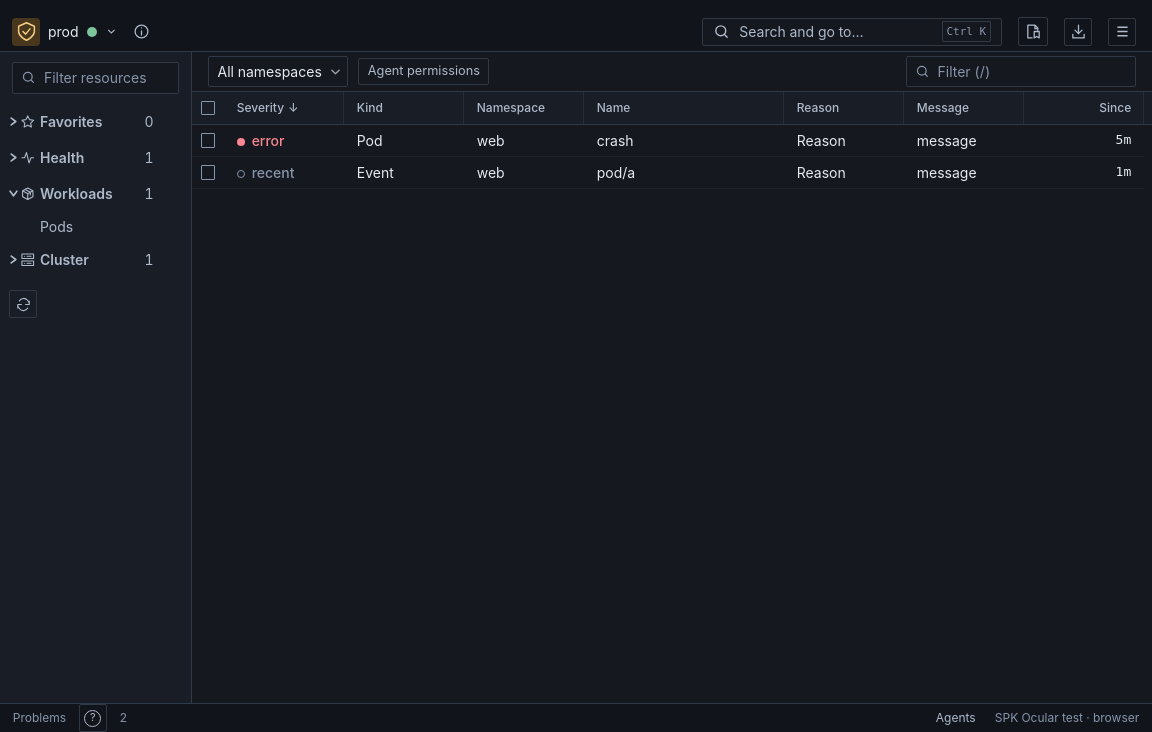
Problems › a row offers what its object's kind offers, not the table's
The image size is (1152, 732).
Right-click the text "crash" at (615, 140), box x1=597 y1=132 x2=634 y2=149
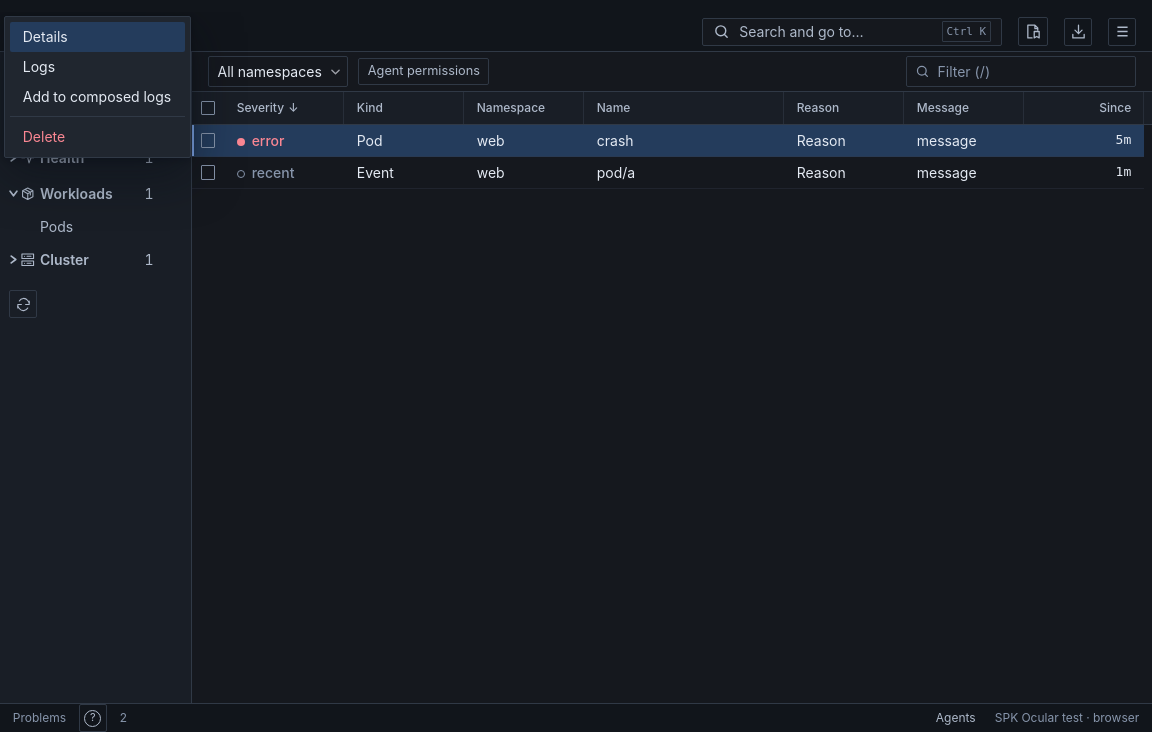
Expected: the menu items read "Details", "Logs", "Add to composed logs", "Delete", in this order, x1=10 y1=22 x2=185 y2=52; x1=10 y1=52 x2=185 y2=82; x1=10 y1=82 x2=185 y2=112; x1=10 y1=122 x2=185 y2=152
Press Escape in the menu named "Row actions", box x1=4 y1=16 x2=191 y2=158
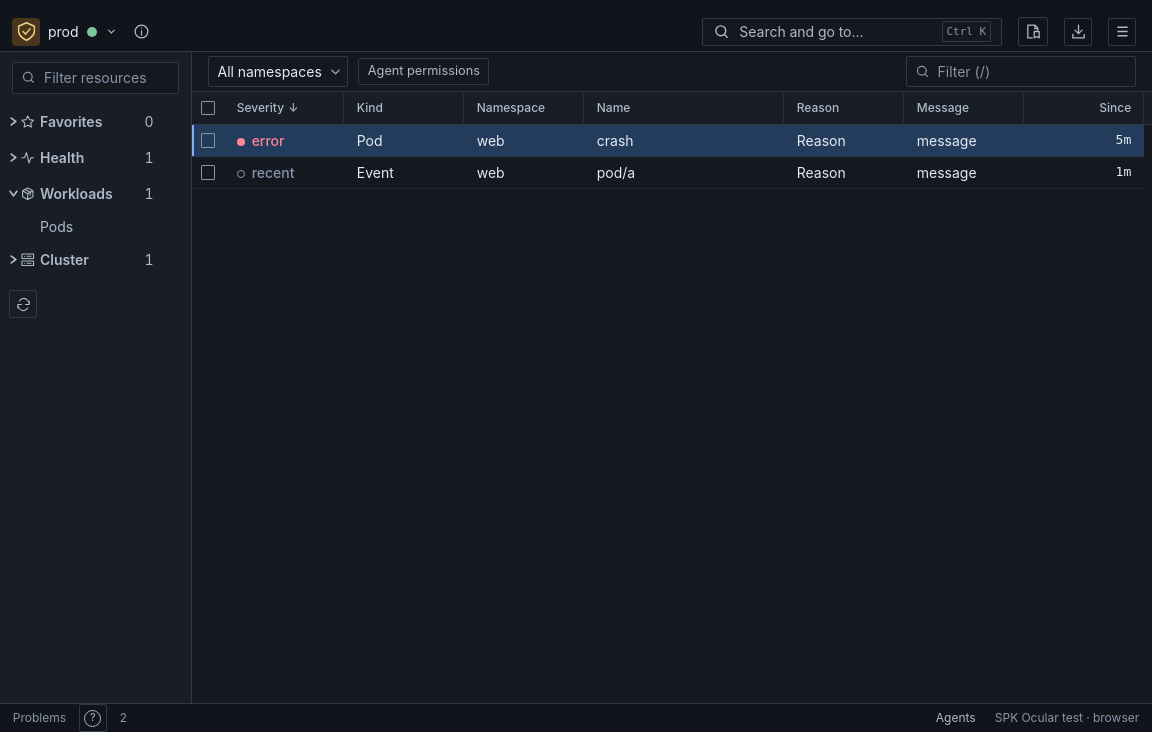
Right-click the text "pod/a" at (616, 172), box x1=597 y1=164 x2=635 y2=181
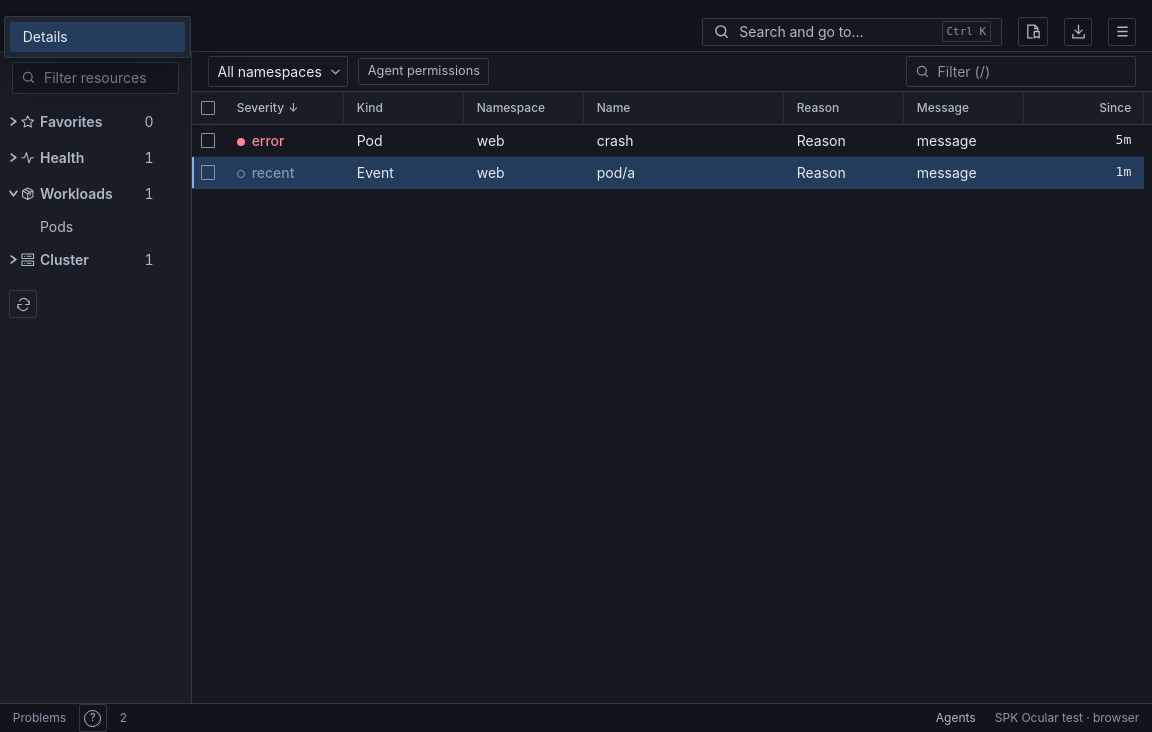
Expected: the menu items read "Details", in this order, x1=10 y1=22 x2=185 y2=52
